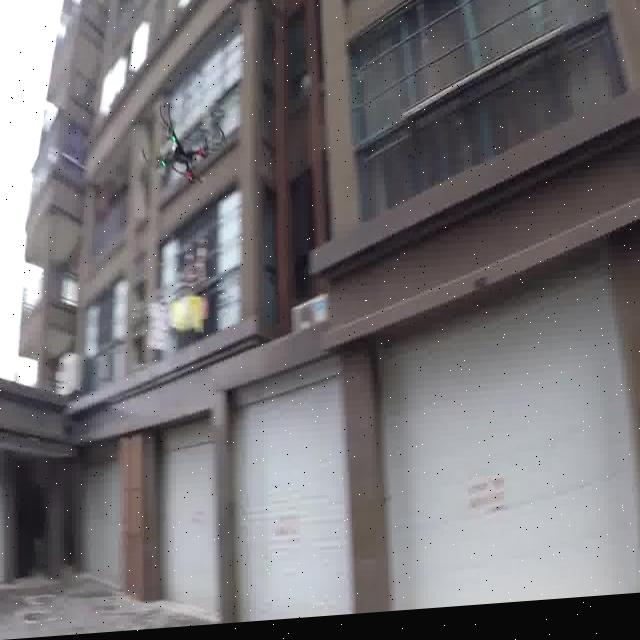drone: (133, 83, 225, 206)
